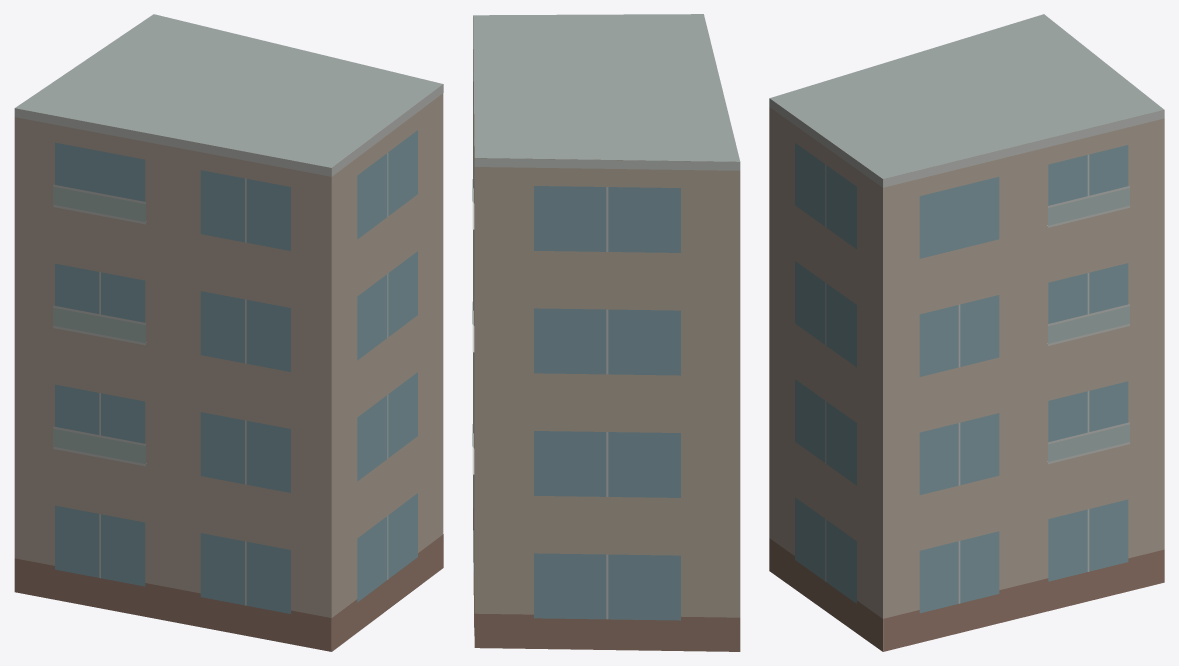
Rendered from survey-upis-33015489.glb.
3 renders of one model, left to right at view 1: azimuth 30°, elevation 25°; view 2: azimuth 150°, elevation 25°; view 3: azimuth 270°, elevation 25°, orthographic. The views are drawn at different scales.
Visible parts, largest first — view 1: survey-upis-33015489.tmp; view 2: survey-upis-33015489.tmp; view 3: survey-upis-33015489.tmp.
Part boxes in pixels (bbox=[...]): survey-upis-33015489.tmp: bbox=[14, 14, 443, 651]; survey-upis-33015489.tmp: bbox=[472, 14, 740, 651]; survey-upis-33015489.tmp: bbox=[769, 14, 1164, 651].
Bounding box in the file's own units: 9.97 × 13.3 × 10.08.
